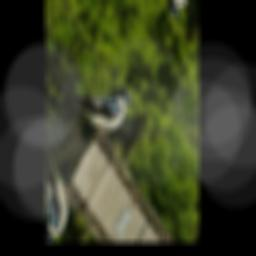Swallow: (57, 35, 135, 163)
